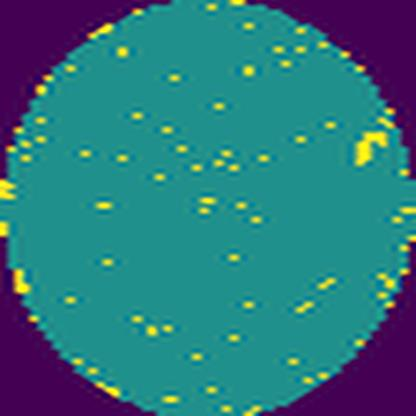Loc: (356, 130, 390, 171)
